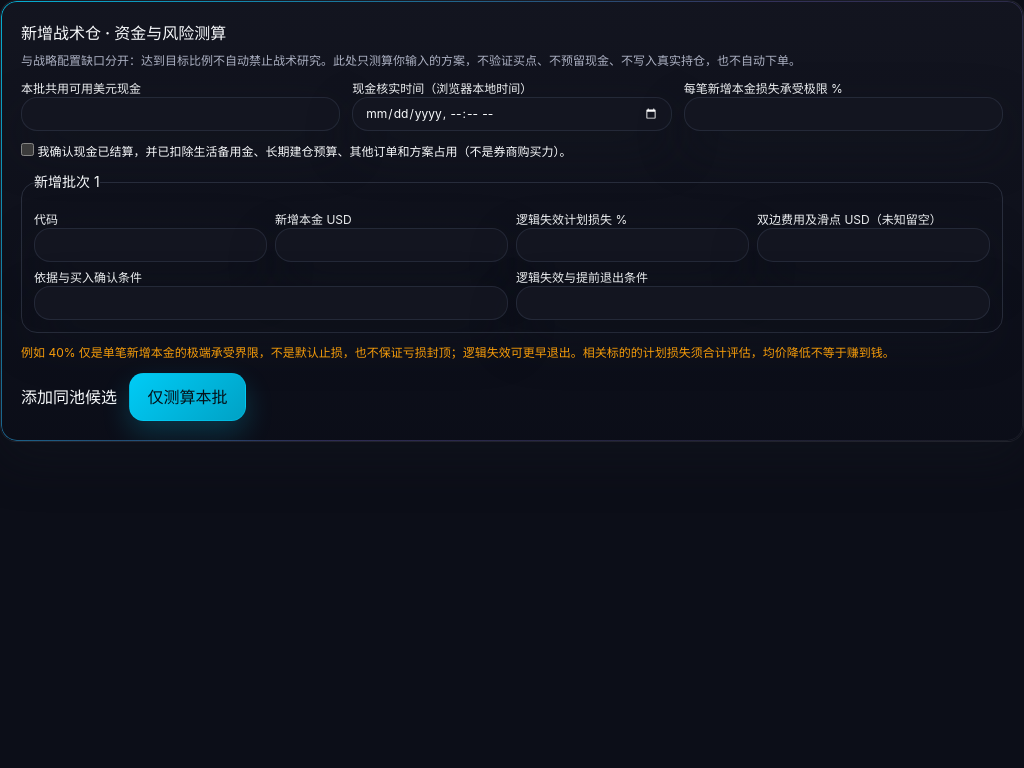
Test: TacticalResearchPanel › adds candidates to one batch rather than allocating each its own cash pool
Click the button "添加同池候选" at (69,397), box [21,373,117,421]
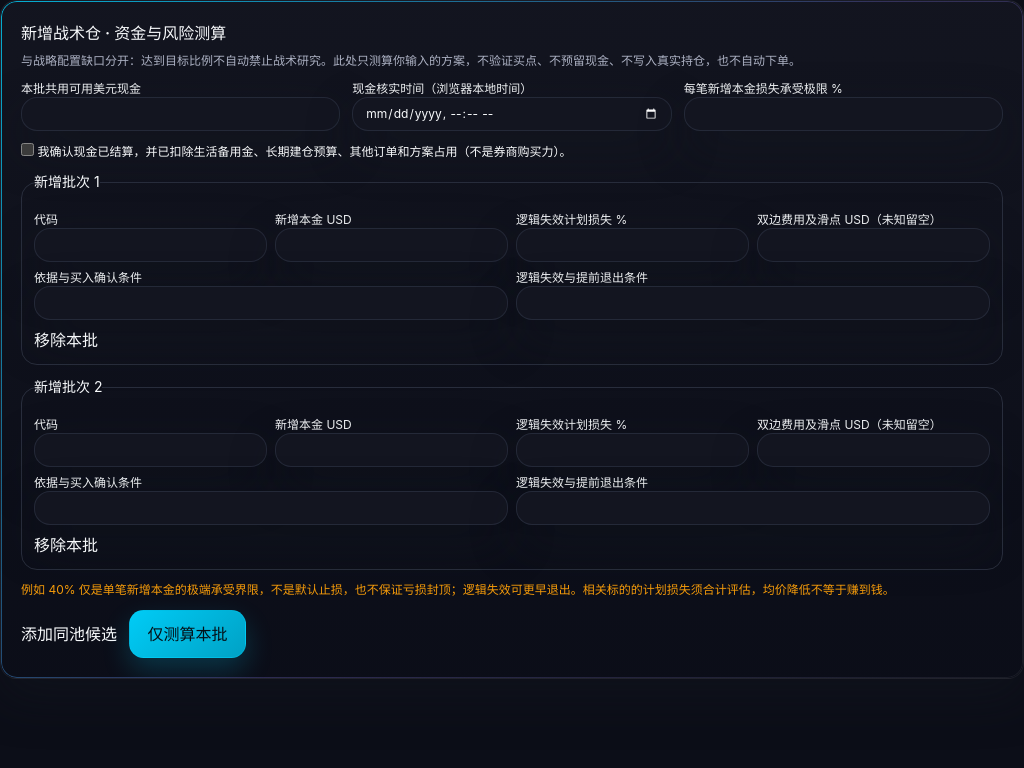
Expected: the number of number fields labelled "本批共用可用美元现金" is 1, [21,97,340,131]
Expected: the number of number fields labelled "新增本金 USD" is 2, [275,228,508,262]; [275,433,508,467]
